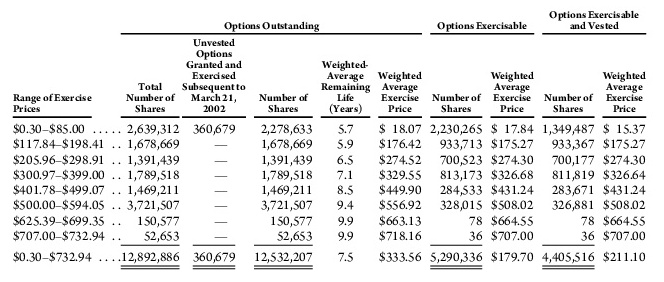table: (0, 0, 664, 282)
